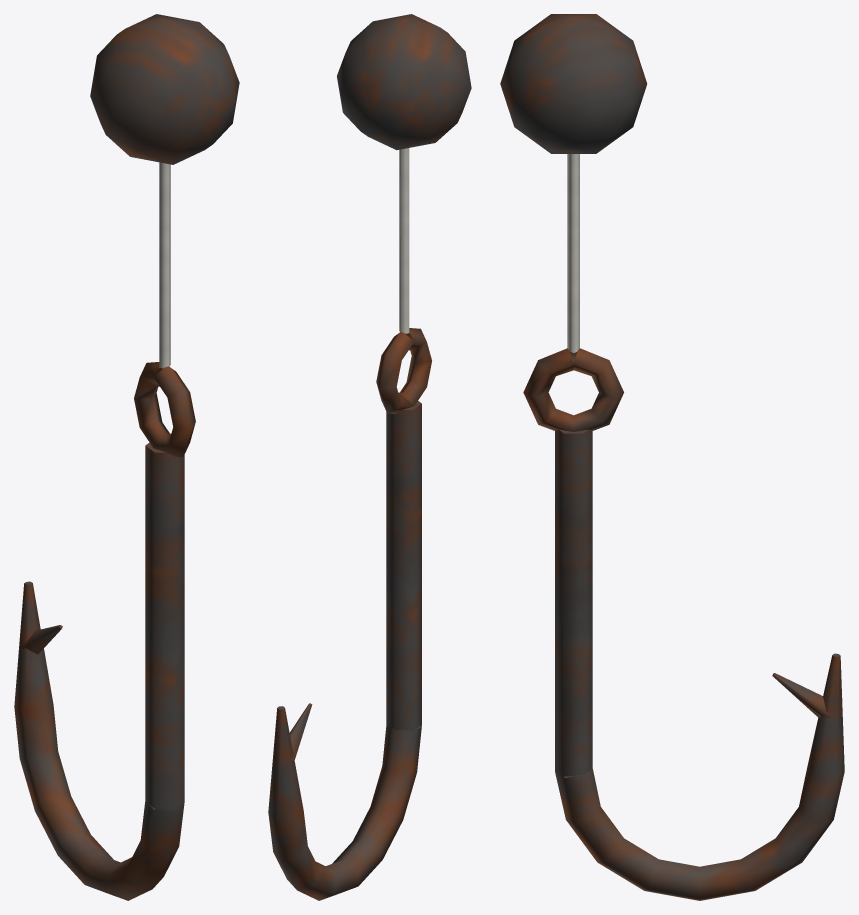
Rendered from HO_Tool_Fishing_Hook.fbx.
3 renders of one model, left to right at view 1: azimuth 30°, elevation 25°; view 2: azimuth 150°, elevation 25°; view 3: azimuth 270°, elevation 25°, orthographic. The views are drawn at different scales.
Parts seen in each view (by area): view 1: HO_Tool_Fishing_Hook__Iron_Wrought, HO_Tool_Fishing_Hook__Cloth_White; view 2: HO_Tool_Fishing_Hook__Iron_Wrought, HO_Tool_Fishing_Hook__Cloth_White; view 3: HO_Tool_Fishing_Hook__Iron_Wrought, HO_Tool_Fishing_Hook__Cloth_White.
Boxes of the visible parts, left/top/right/bottom form: HO_Tool_Fishing_Hook__Iron_Wrought: left=14, top=14, right=239, bottom=900; HO_Tool_Fishing_Hook__Cloth_White: left=159, top=162, right=170, bottom=368; HO_Tool_Fishing_Hook__Iron_Wrought: left=268, top=14, right=471, bottom=900; HO_Tool_Fishing_Hook__Cloth_White: left=399, top=148, right=409, bottom=333; HO_Tool_Fishing_Hook__Iron_Wrought: left=500, top=14, right=844, bottom=900; HO_Tool_Fishing_Hook__Cloth_White: left=567, top=154, right=579, bottom=352.
Bounding box in the file's own units: 0.0666 × 0.464 × 0.1639.
